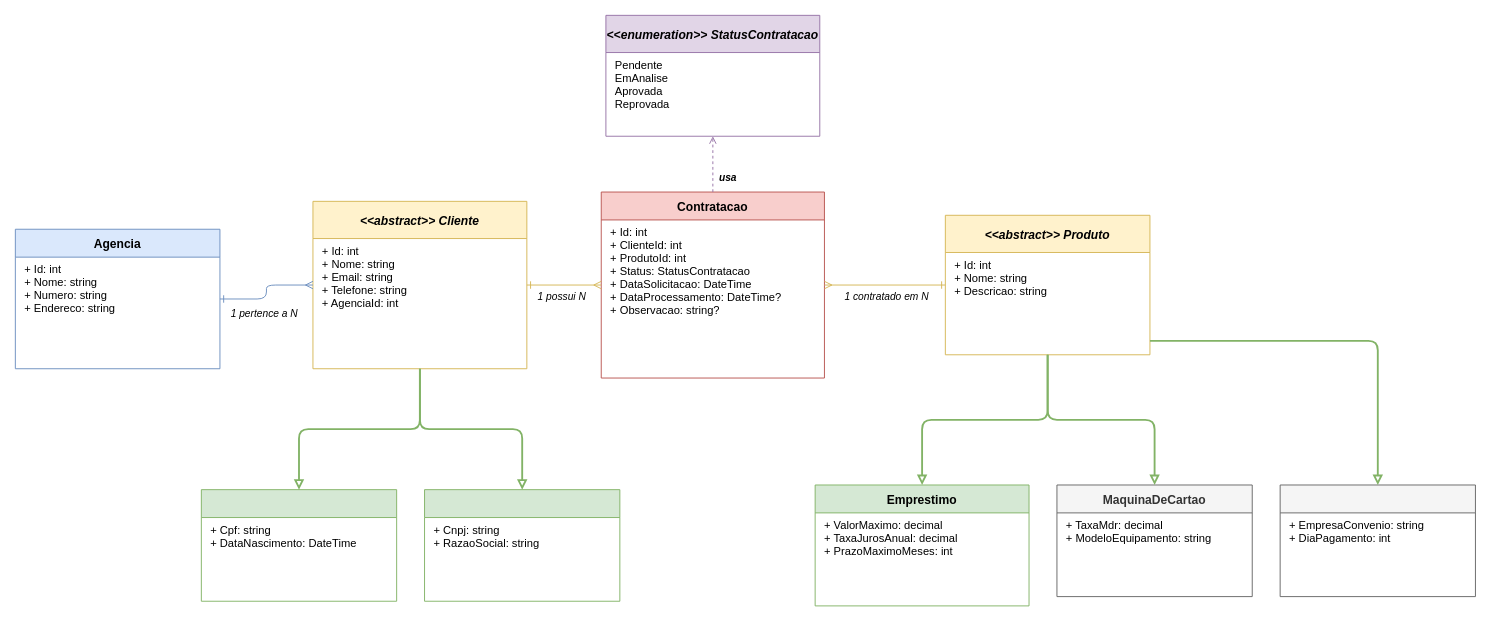
This 1491x621 diagram has some shape labels left out. Each missing label, with the box of its shape:
PessoaFisica: (200, 489, 397, 601)
PessoaJuridica: (424, 489, 620, 601)
ReceberSalario: (1279, 484, 1475, 597)
